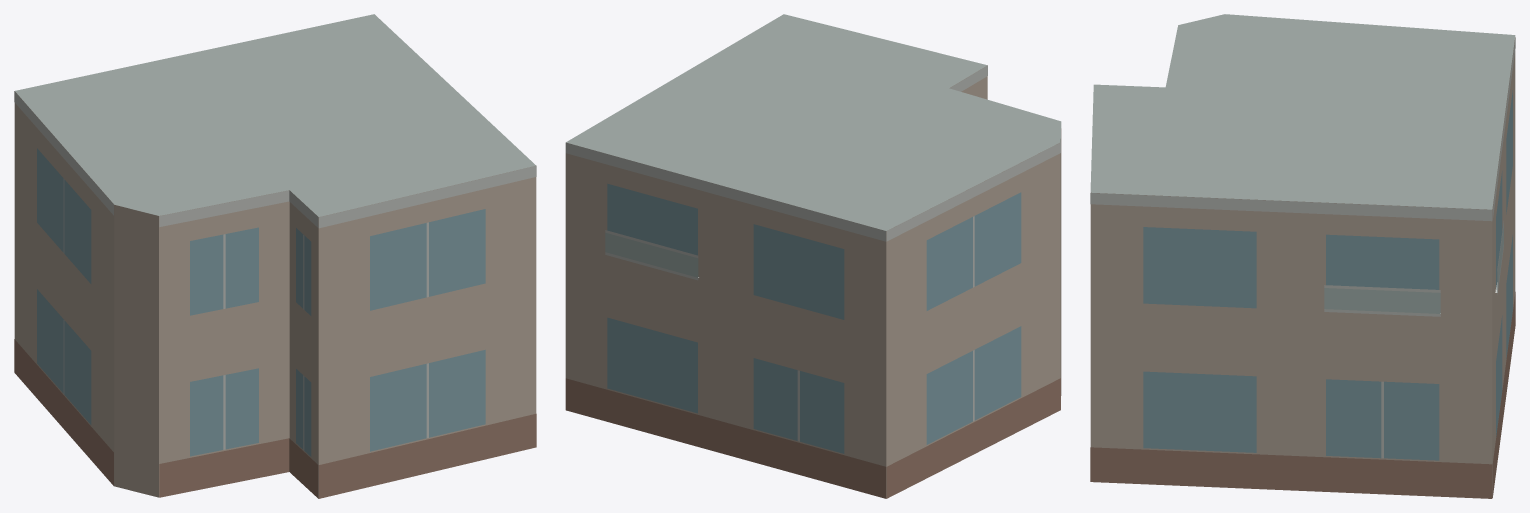
Rendered from survey-upis-32585271.glb.
The picture shows the model from 3 angles, left to right: view 1: azimuth 30°, elevation 25°; view 2: azimuth 150°, elevation 25°; view 3: azimuth 270°, elevation 25°; orthographic projection. The views are drawn at different scales.
Parts seen in each view (by area): view 1: survey-upis-32585271.tmp; view 2: survey-upis-32585271.tmp; view 3: survey-upis-32585271.tmp.
Part boxes in pixels (bbox=[...]): survey-upis-32585271.tmp: bbox=[14, 14, 536, 498]; survey-upis-32585271.tmp: bbox=[565, 14, 1061, 498]; survey-upis-32585271.tmp: bbox=[1090, 14, 1515, 498].
Size of the model in its own units: 8.86 by 6.1 by 8.14.
